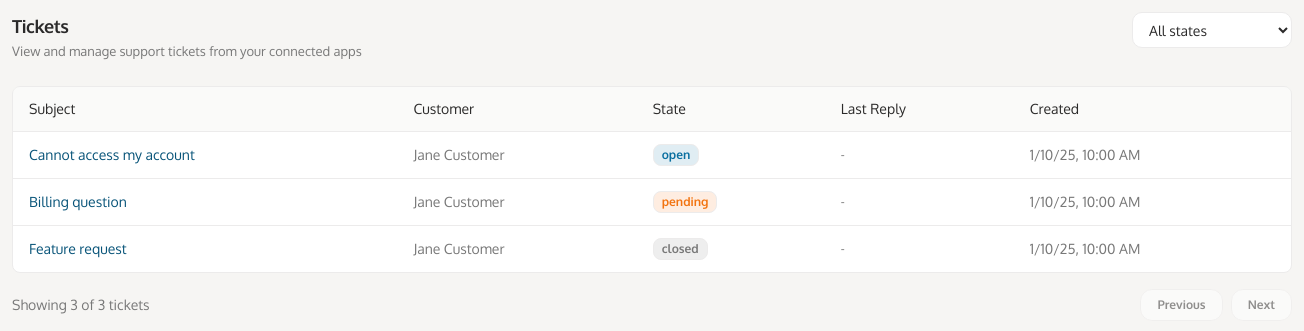
Scenario: Tickets List › filters tickets by state
The image size is (1304, 331).
Expected: the link "Cannot access my account" is shown, [29,146,195,162]
Select "Open" in the dropdown at (1212, 30), box [1132,12,1292,48]
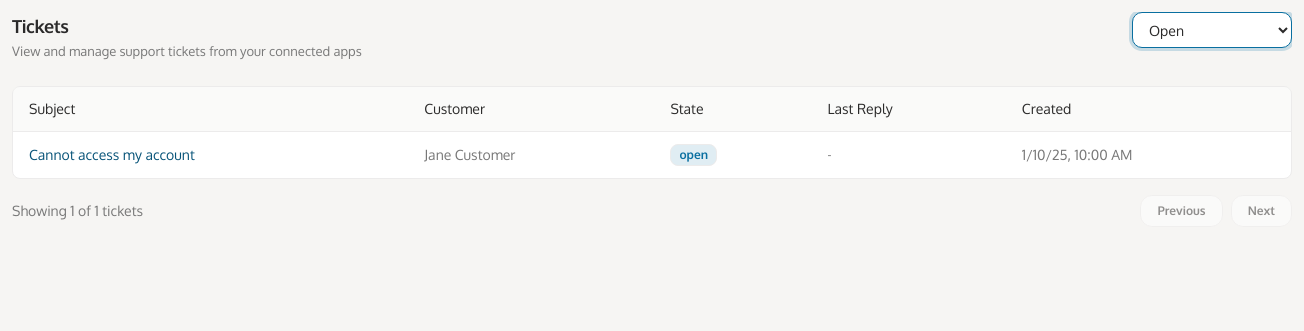
Now the text "Showing 1 of 1 tickets" is shown, box [12,200,143,220]
